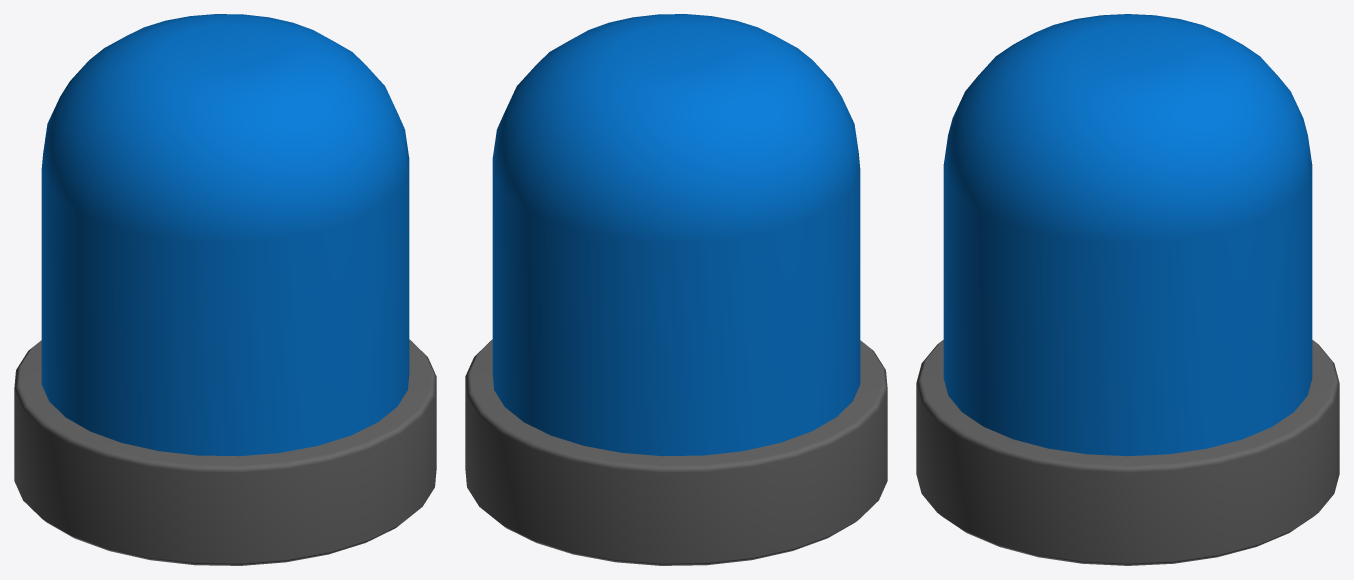
Rendered from Public_16_Police_Light_2.glb.
The picture shows the model from 3 angles, left to right: view 1: azimuth 30°, elevation 25°; view 2: azimuth 150°, elevation 25°; view 3: azimuth 270°, elevation 25°; orthographic projection.
Parts seen in each view (by area): view 1: Public_16_Police_Light_2; view 2: Public_16_Police_Light_2; view 3: Public_16_Police_Light_2.
Boxes of the visible parts, x1=… form: Public_16_Police_Light_2: x1=14, y1=14, x2=436, y2=565; Public_16_Police_Light_2: x1=465, y1=14, x2=887, y2=565; Public_16_Police_Light_2: x1=916, y1=14, x2=1339, y2=565.
Bounding box in the file's own units: 2.61 × 2.92 × 2.61.
1 material, 1 textured.
